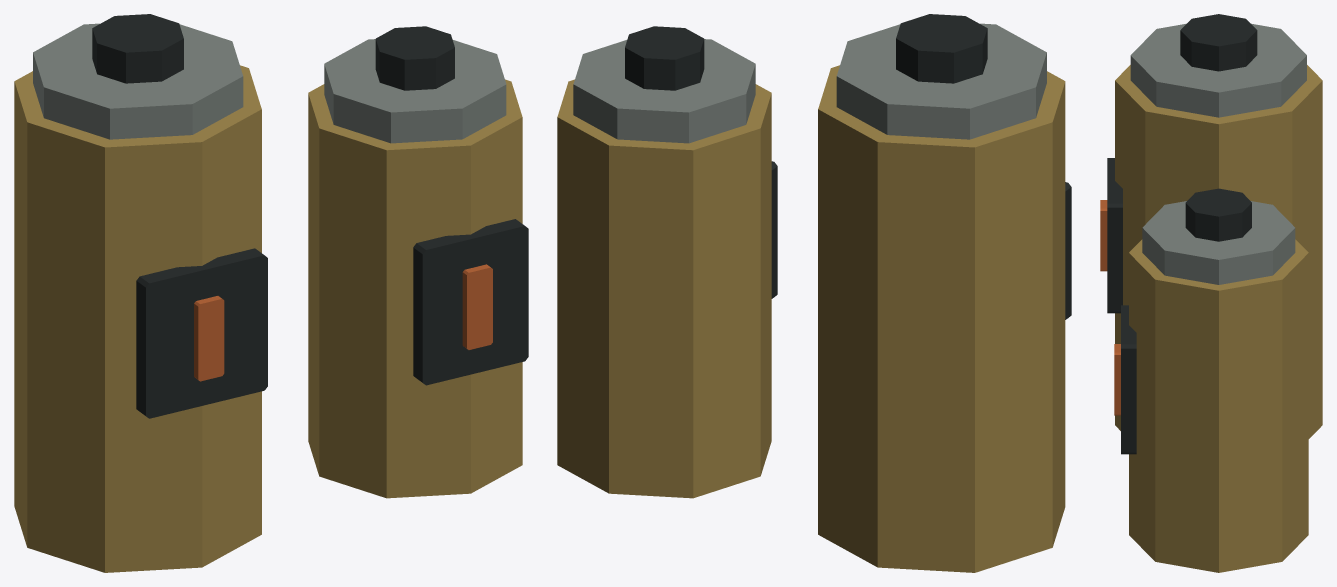
The model's file is ChemicalComponents.gltf.
The picture shows the model from 3 angles, left to right: view 1: azimuth 30°, elevation 25°; view 2: azimuth 150°, elevation 25°; view 3: azimuth 270°, elevation 25°; orthographic projection. The views are drawn at different scales.
Parts seen in each view (by area): view 1: ChemicalComponents; view 2: ChemicalComponents; view 3: ChemicalComponents.
Part boxes in pixels (x1,y1,x2,y2): ChemicalComponents: [14, 14, 528, 572]; ChemicalComponents: [557, 14, 1071, 572]; ChemicalComponents: [1100, 14, 1322, 572].
Size of the model in its own units: 0.262 by 0.252 by 0.1285.
